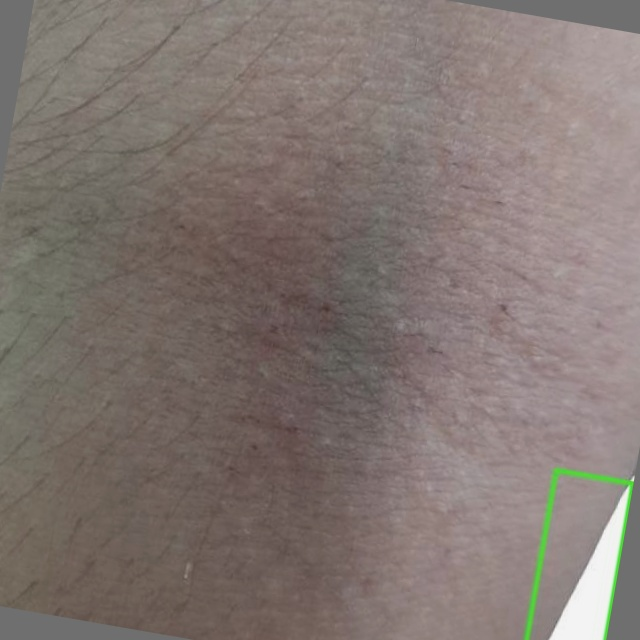Contact Dermatitis: (526, 470, 632, 639)
